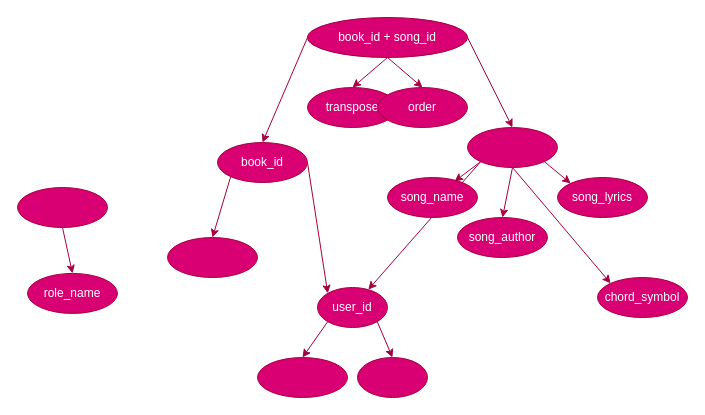
Image size: 705x415. Some labels were removed from this diagram. Here are the shapes that lost their labels. From the top down, the centre of each, then its label:
the point at 512,147: song_id
the point at 62,207: role_id
the point at 212,257: book_name
the point at 302,377: user_password
the point at 392,377: user_name
